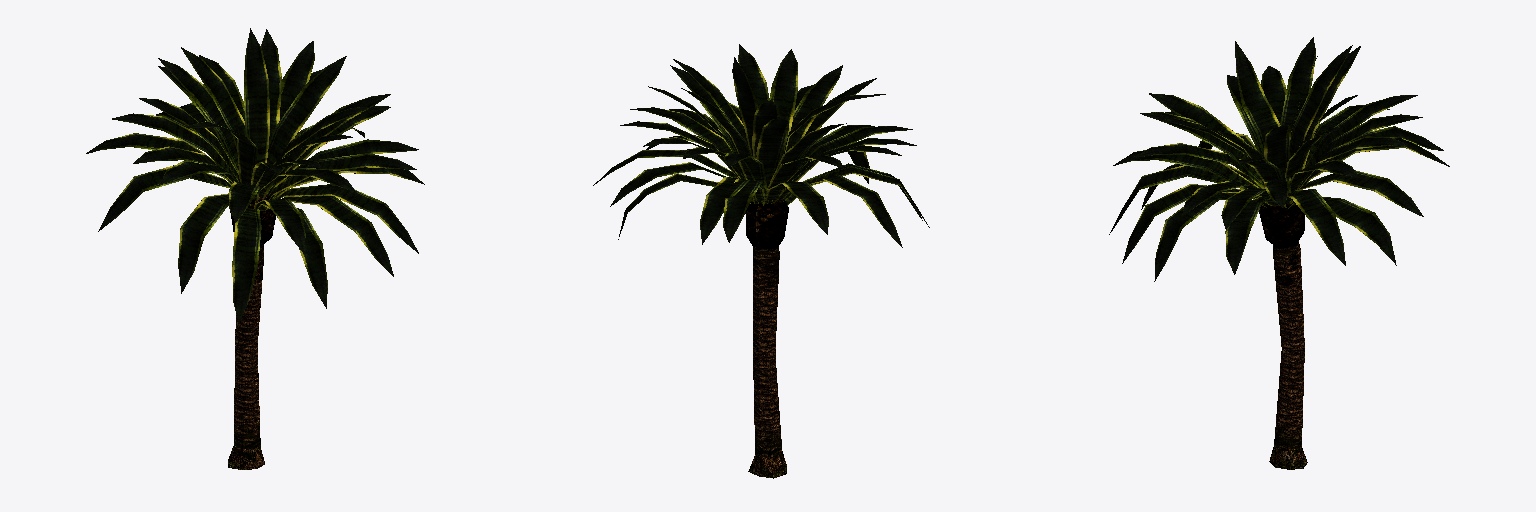
The picture shows the model from 3 angles: view 1: azimuth 30°, elevation 25°; view 2: azimuth 150°, elevation 25°; view 3: azimuth 270°, elevation 25°; orthographic projection.
Visible parts, largest first — view 1: ENV_MP_Iraq_PalmTree_01; view 2: ENV_MP_Iraq_PalmTree_01; view 3: ENV_MP_Iraq_PalmTree_01.
Part boxes in pixels (left/top/right/bottom): ENV_MP_Iraq_PalmTree_01: left=86, top=28, right=424, bottom=469; ENV_MP_Iraq_PalmTree_01: left=593, top=44, right=929, bottom=478; ENV_MP_Iraq_PalmTree_01: left=1109, top=37, right=1449, bottom=469.
Size of the model in its own units: 80.89 by 111 by 81.82.
2 materials, 2 textured.